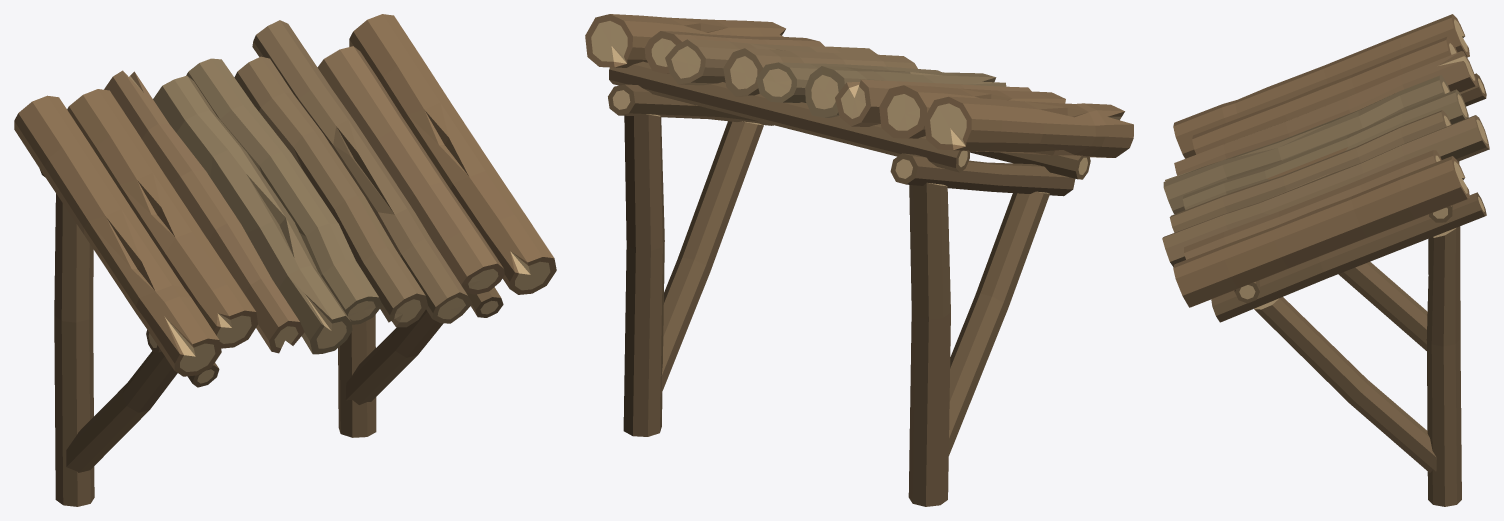
File: rpgpp_ag_awning_01a.fbx
3 views of the same model, side by side, from view 1: azimuth 30°, elevation 25°; view 2: azimuth 150°, elevation 25°; view 3: azimuth 270°, elevation 25° (orthographic). The views are drawn at different scales.
Visible parts, largest first — view 1: rpgpp_ag_awning_01a; view 2: rpgpp_ag_awning_01a; view 3: rpgpp_ag_awning_01a.
Boxes of the visible parts, x1,y1,x2,y2 form: rpgpp_ag_awning_01a: (14, 14, 556, 506); rpgpp_ag_awning_01a: (585, 14, 1133, 506); rpgpp_ag_awning_01a: (1162, 14, 1489, 506).
Size of the model in its own units: 2.74 by 2.82 by 2.34.
